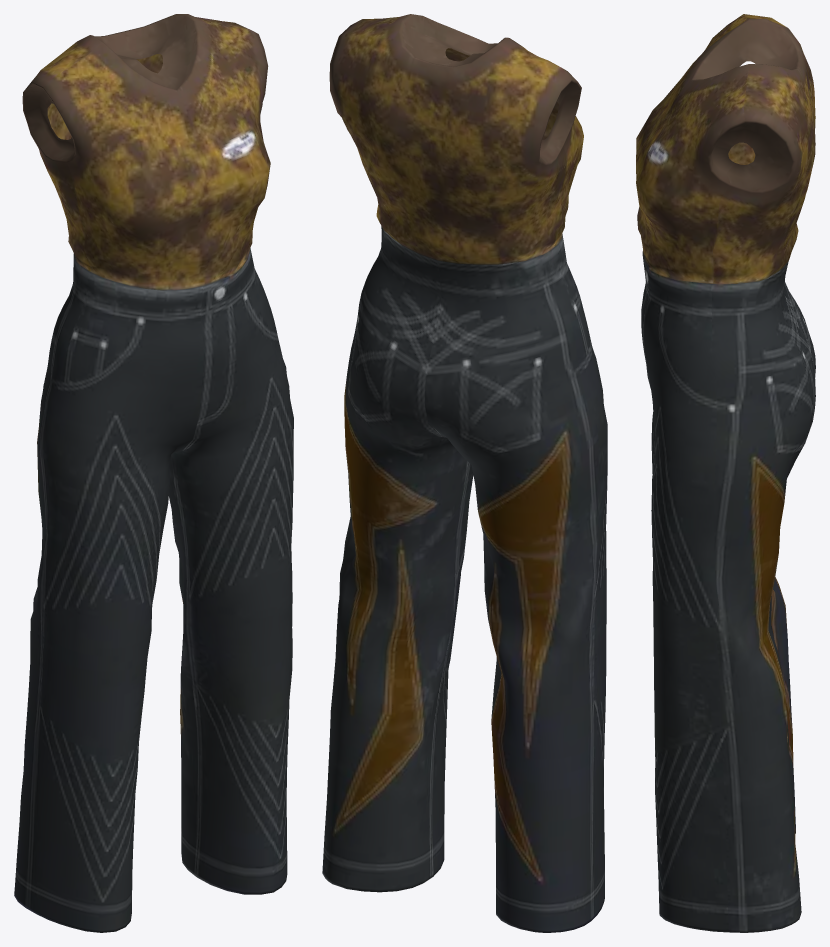
Rendered from f_jeanstank.glb.
The picture shows the model from 3 angles, left to right: view 1: azimuth 30°, elevation 25°; view 2: azimuth 150°, elevation 25°; view 3: azimuth 270°, elevation 25°; orthographic projection. The views are drawn at different scales.
Parts seen in each view (by area): view 1: defaultMaterial; view 2: defaultMaterial; view 3: defaultMaterial.
Part boxes in pixels (bbox=[...]): defaultMaterial: bbox=[14, 14, 293, 932]; defaultMaterial: bbox=[322, 14, 607, 932]; defaultMaterial: bbox=[636, 14, 815, 932].
Size of the model in its own units: 381 by 1238 by 241.
Materials: 1 (1 with a texture image).
